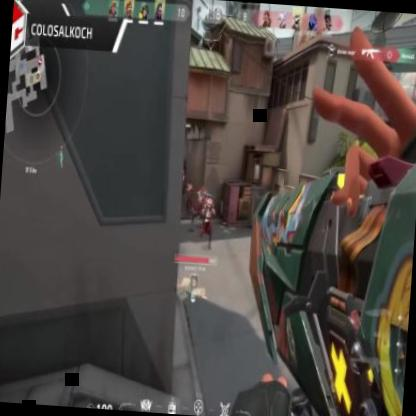enemy: (198, 195, 218, 249), (192, 184, 209, 224), (184, 177, 195, 215), (178, 167, 186, 192)
enemy_head: (207, 198, 212, 208), (200, 186, 206, 193), (188, 179, 191, 186), (182, 168, 184, 174)
